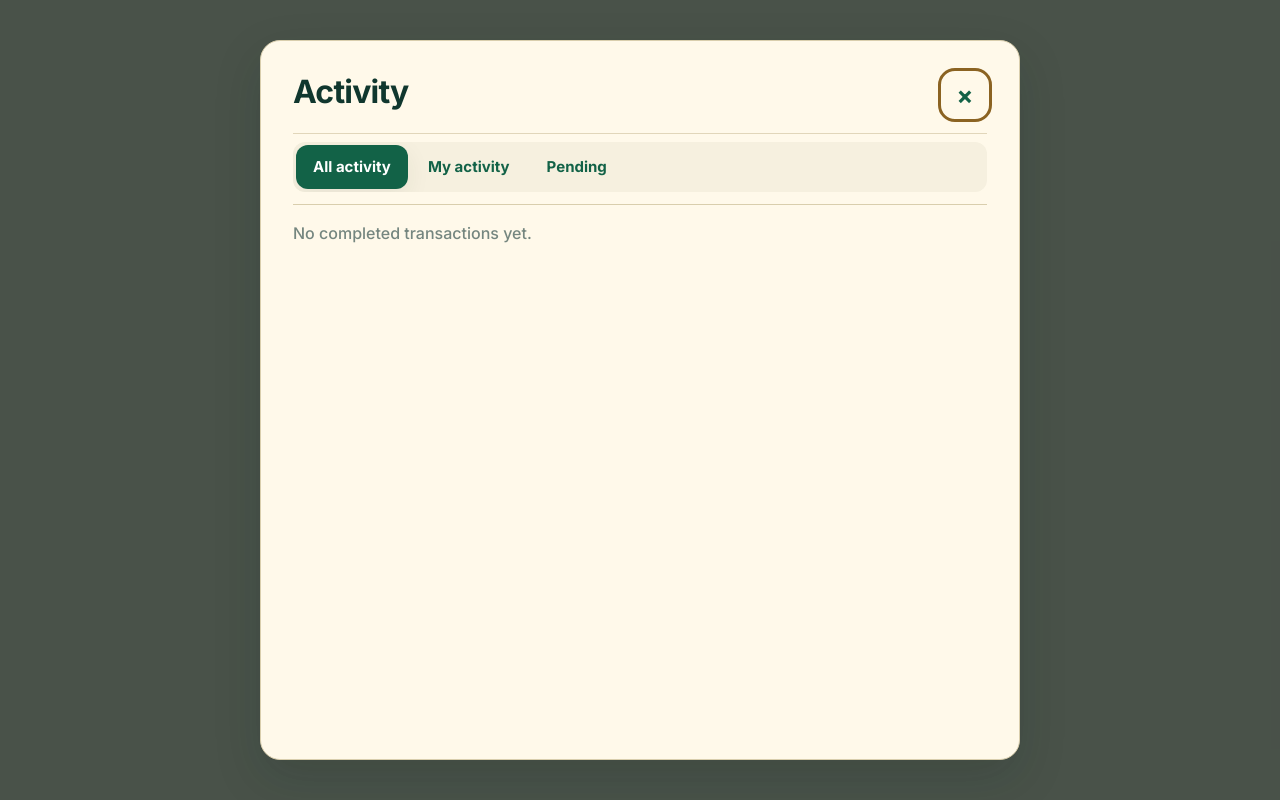
Test case: activity empty states › says there is no activity in All and Mine, and no pending activity in Pending
Expected: the text "No completed transactions yet." is shown, [293, 223, 532, 243]
Expected: the text "No pending payment requests." is not shown
Click the tab "My activity": click(469, 167) [411, 145, 527, 189]
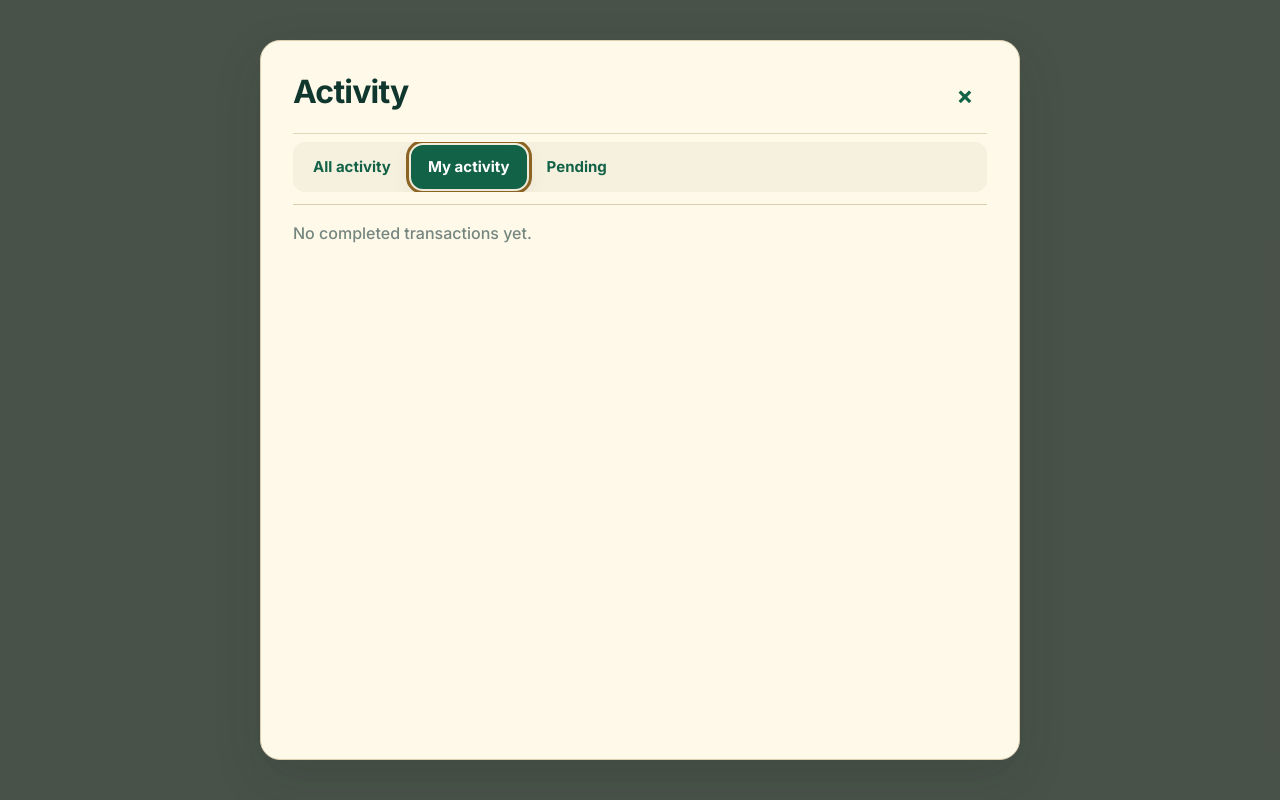
Expected: the text "No completed transactions yet." is shown, [293, 223, 532, 243]
Click the tab "Pending": click(577, 167) [530, 145, 624, 189]
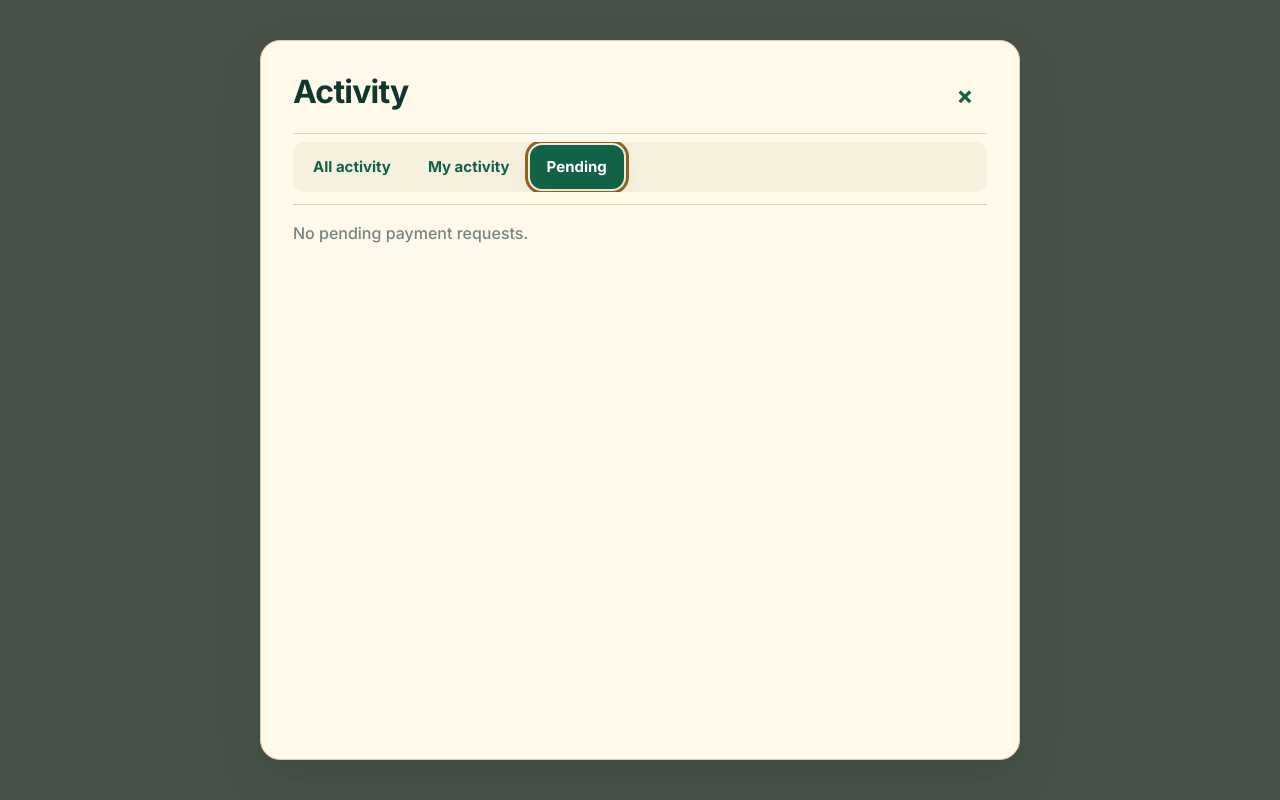
Expected: the text "No pending payment requests." is shown, [293, 223, 528, 243]
Expected: the text "No completed transactions yet." is gone
